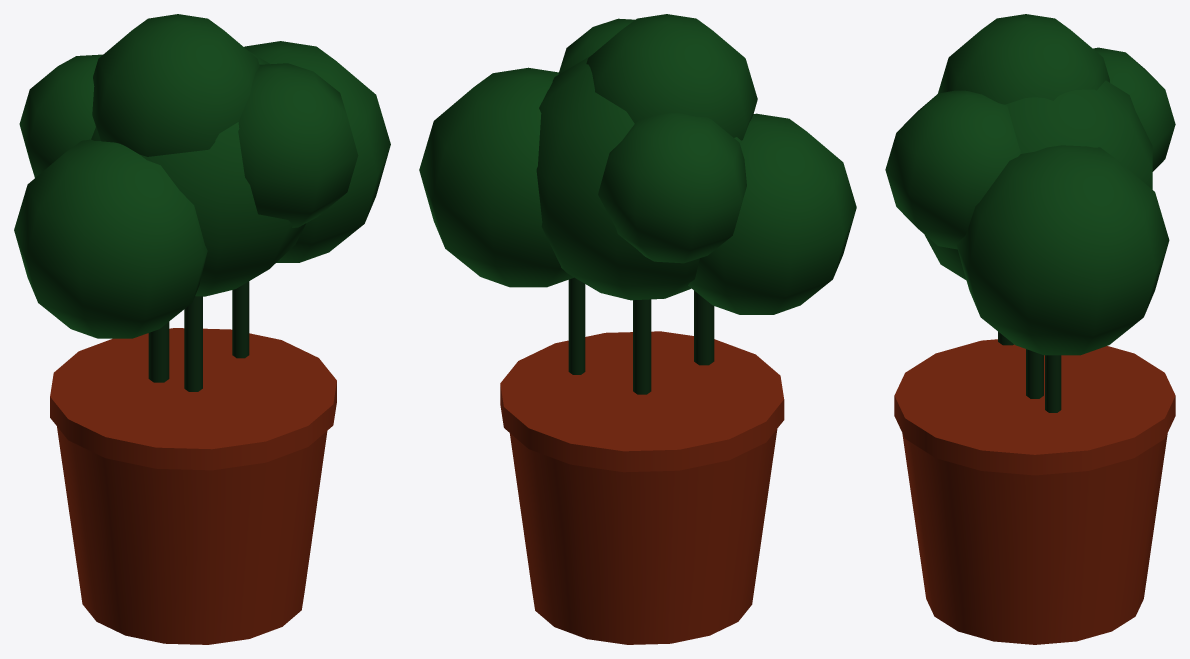
Rendered from plant.glb.
3 renders of one model, left to right at view 1: azimuth 30°, elevation 25°; view 2: azimuth 150°, elevation 25°; view 3: azimuth 270°, elevation 25°, orthographic. The views are drawn at different scales.
Parts seen in each view (by area): view 1: plant; view 2: plant; view 3: plant.
Part boxes in pixels (left/top/right/bottom): plant: left=14, top=14, right=390, bottom=644; plant: left=419, top=14, right=856, bottom=644; plant: left=885, top=14, right=1175, bottom=644.
Size of the model in its own units: 0.9355 by 1.38 by 0.64.
